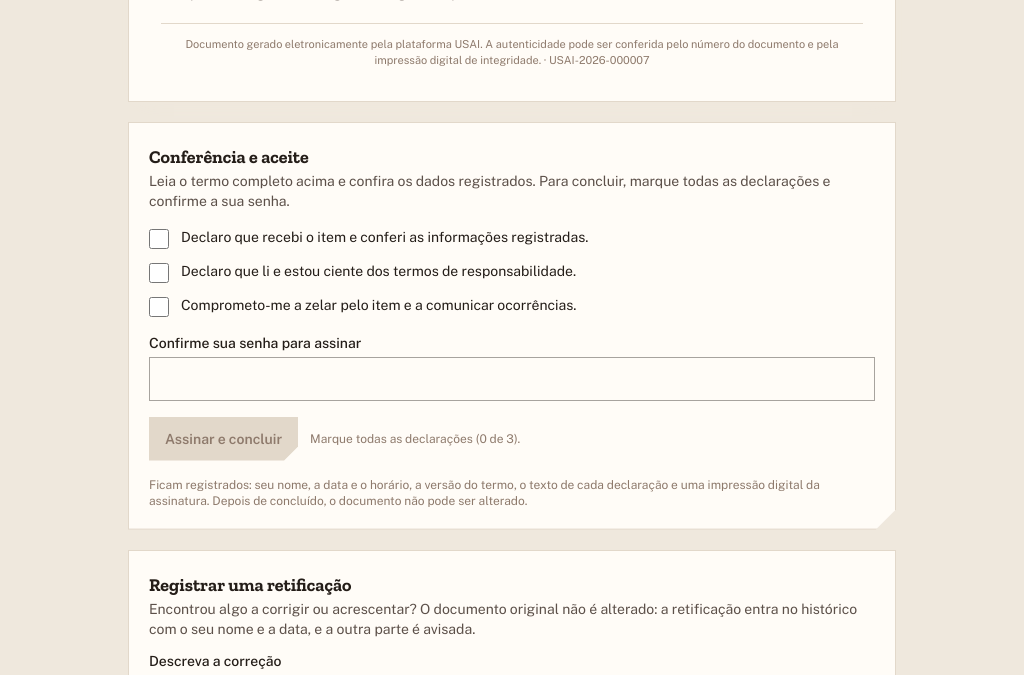
Test: MovimentacaoPage — aceite obrigatório › só habilita com TODAS as declarações marcadas e a senha preenchida
This screenshot has width=1024, height=675.
(page scrolled)
Type "minha-senha" into the password field labelled "Confirme sua senha para assinar".
click(512, 378); type("minha-senha")  # box [149,356,875,400]
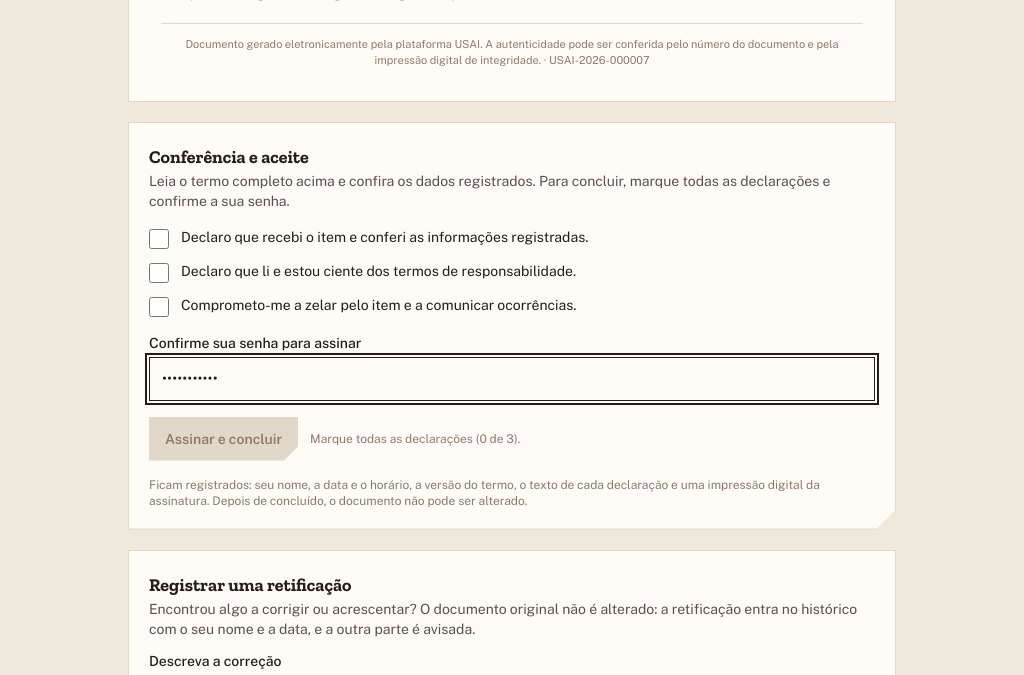
Expected: the button "Assinar e concluir" is disabled, [149,416,298,460]
Click the 1st checkbox.
click(159, 238)  # box [149,228,169,248]
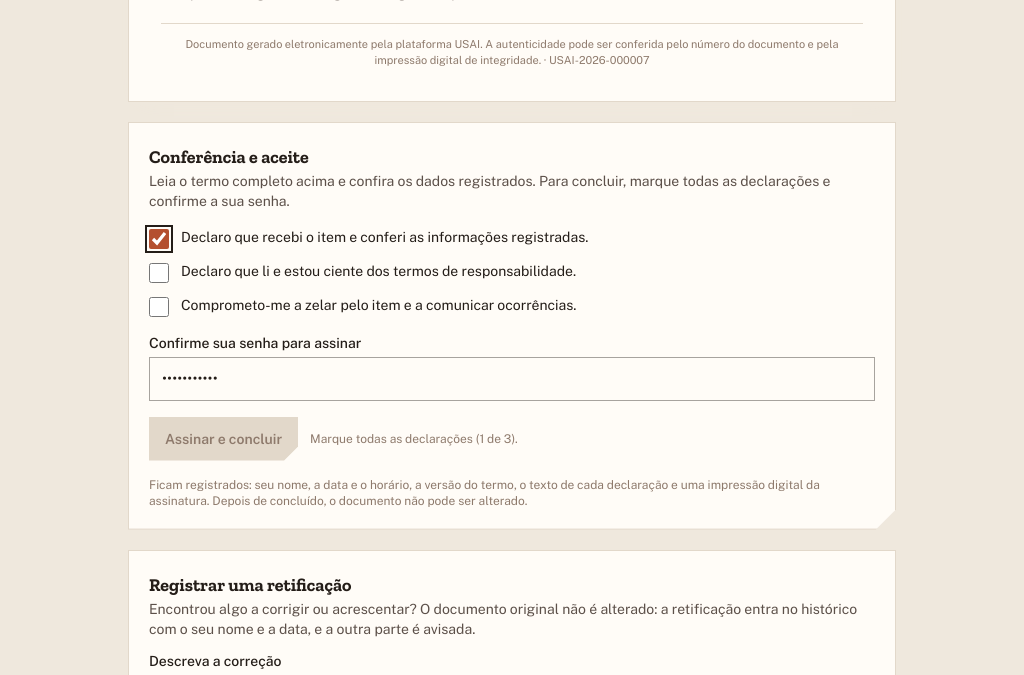
Click the 2nd checkbox.
click(159, 272)  # box [149,262,169,282]
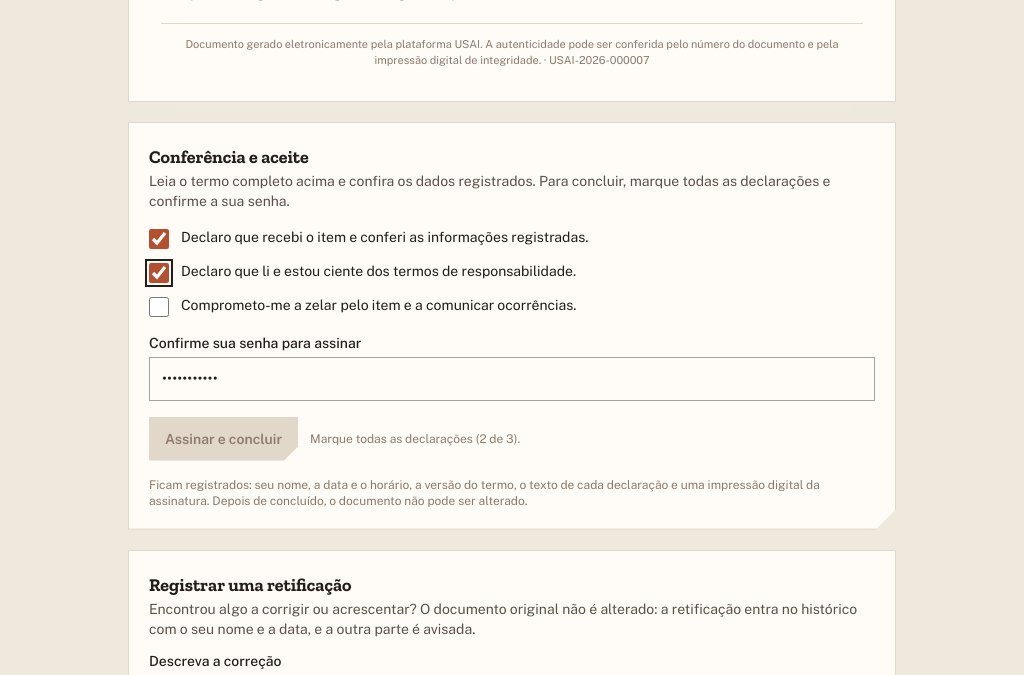
Expected: the button "Assinar e concluir" is disabled, [149,416,298,460]
Result: the text "Marque todas as declarações (2 de 3)." is shown at [310,430,520,446]
Click the checkbox labelled "Comprometo-me a zelar pelo item e a comunicar ocorrências.".
click(159, 306)  # box [149,296,169,316]
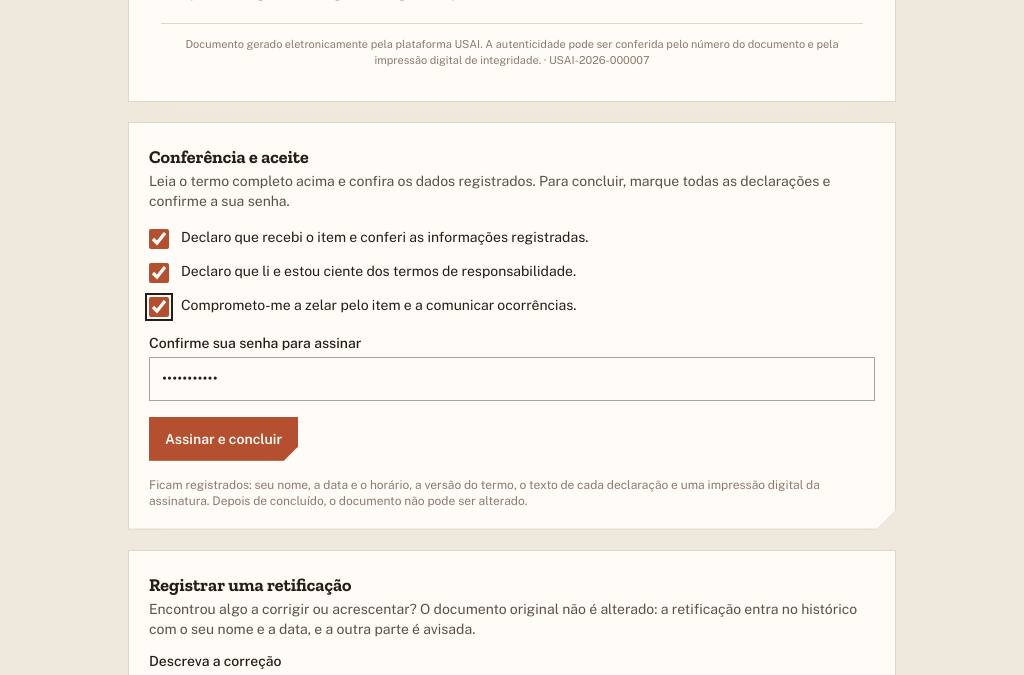
Result: the button "Assinar e concluir" is enabled at [149,416,298,460]
Click the 2nd checkbox.
click(159, 272)  # box [149,262,169,282]
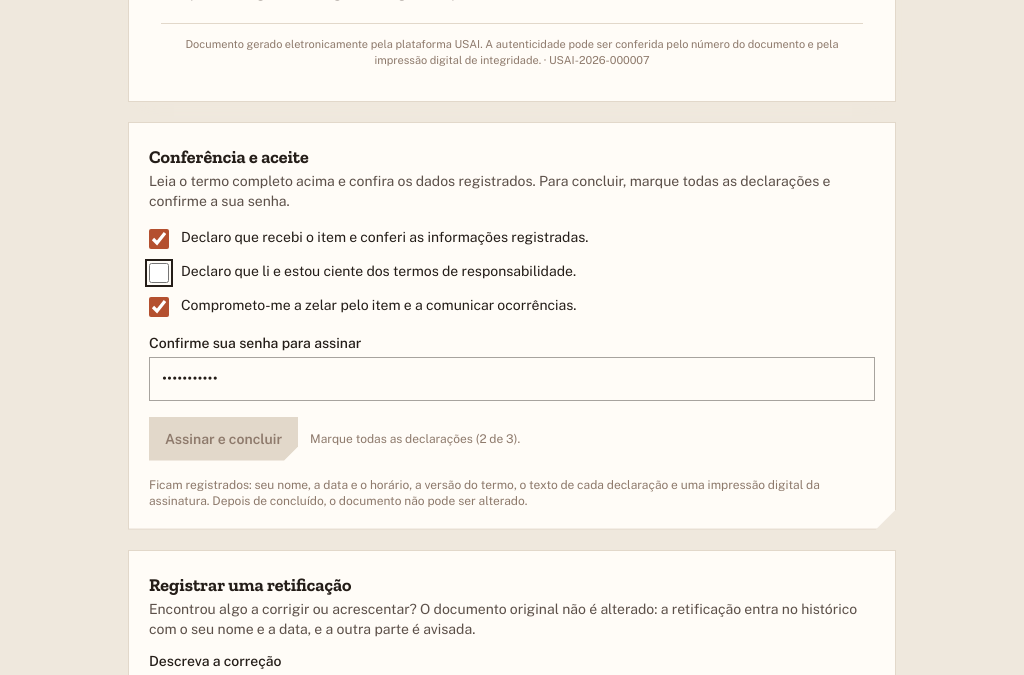
Result: the button "Assinar e concluir" is disabled at [149,416,298,460]
